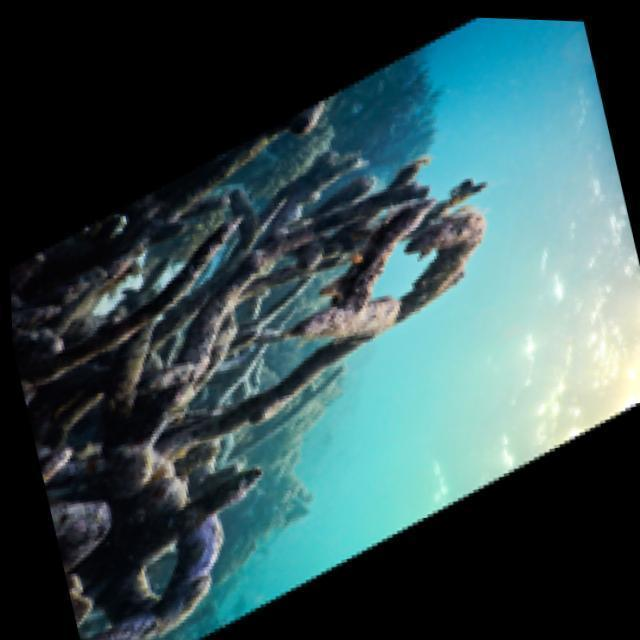Dead Coral: (2, 85, 555, 566)
